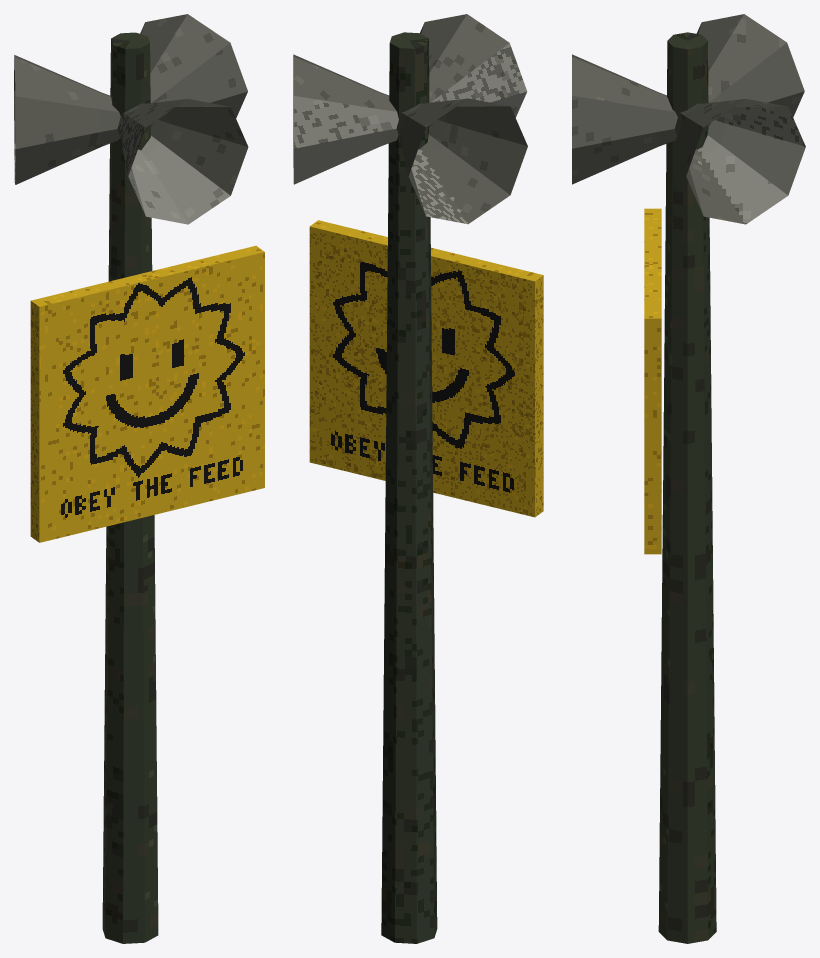
Rendered from shillz_speaker_tower.glb.
3 views of the same model, side by side, from view 1: azimuth 30°, elevation 25°; view 2: azimuth 150°, elevation 25°; view 3: azimuth 270°, elevation 25° (orthographic).
Parts seen in each view (by area): view 1: prop; view 2: prop; view 3: prop.
Boxes of the visible parts, left/top/right/bottom form: prop: left=14, top=14, right=264, bottom=943; prop: left=293, top=14, right=543, bottom=943; prop: left=572, top=14, right=805, bottom=943.
Size of the model in its own units: 0.9327 by 3.4 by 0.8091.
1 material, 1 textured.
